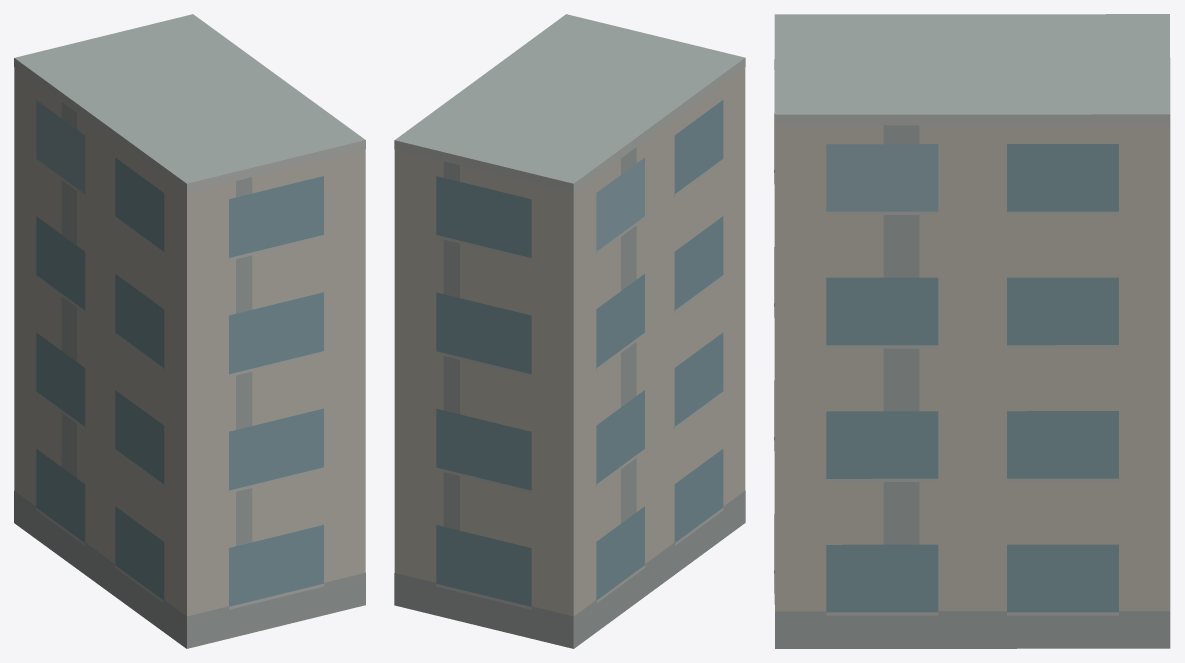
File: survey-upis-33041791.glb
3 renders of one model, left to right at view 1: azimuth 30°, elevation 25°; view 2: azimuth 150°, elevation 25°; view 3: azimuth 270°, elevation 25°, orthographic. The views are drawn at different scales.
Parts seen in each view (by area): view 1: survey-upis-33041791.tmp; view 2: survey-upis-33041791.tmp; view 3: survey-upis-33041791.tmp.
Boxes of the visible parts, left/top/right/bottom form: survey-upis-33041791.tmp: left=14, top=14, right=365, bottom=648; survey-upis-33041791.tmp: left=394, top=14, right=745, bottom=648; survey-upis-33041791.tmp: left=774, top=14, right=1170, bottom=648.
Size of the model in its own units: 4.95 by 12.2 by 8.22.
